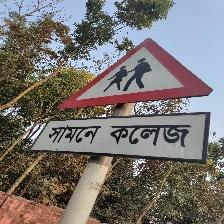College-in-front: (20, 13, 213, 171)
